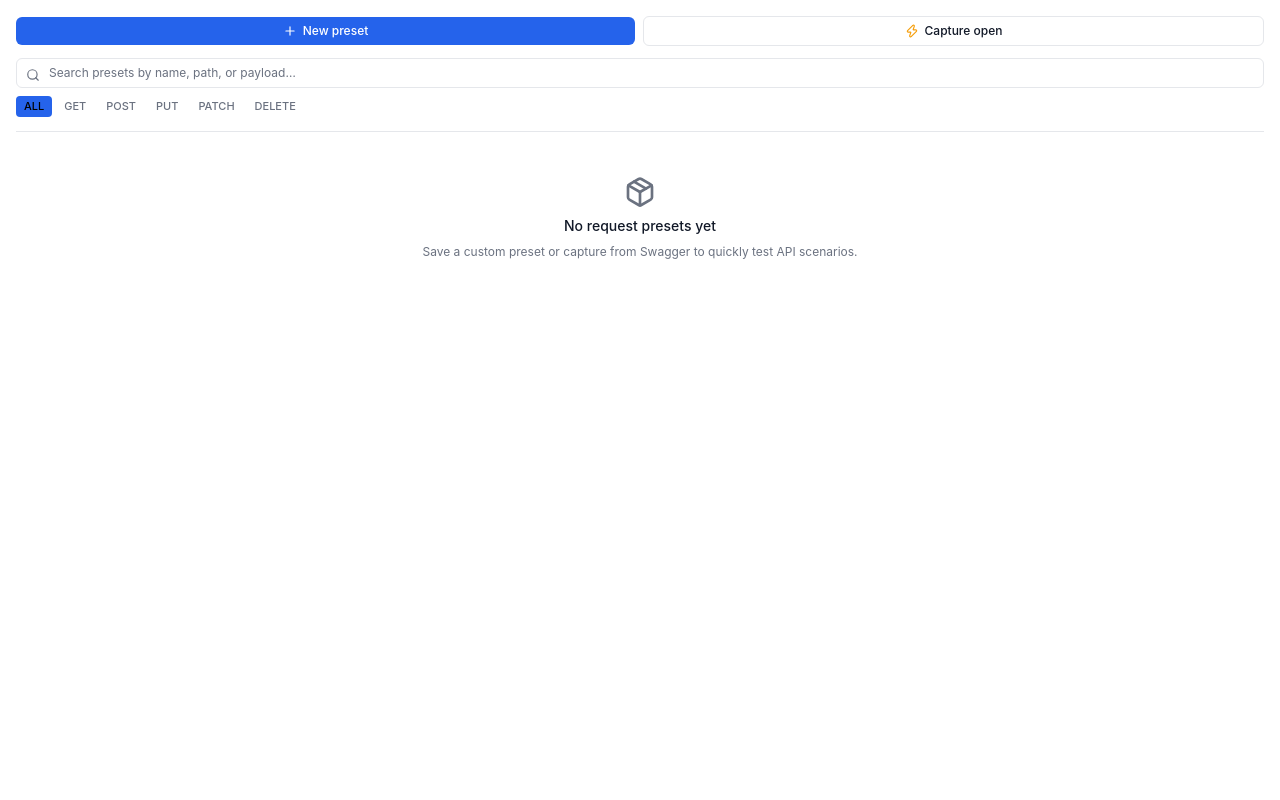
it: RequestsPanel › hides request body input for GET endpoints in create dialog
expect the text "No request presets yet" is shown: met, box [564,216,716,236]
Step 1. Click the button "New preset" → [326, 31], box [16,17,635,45]
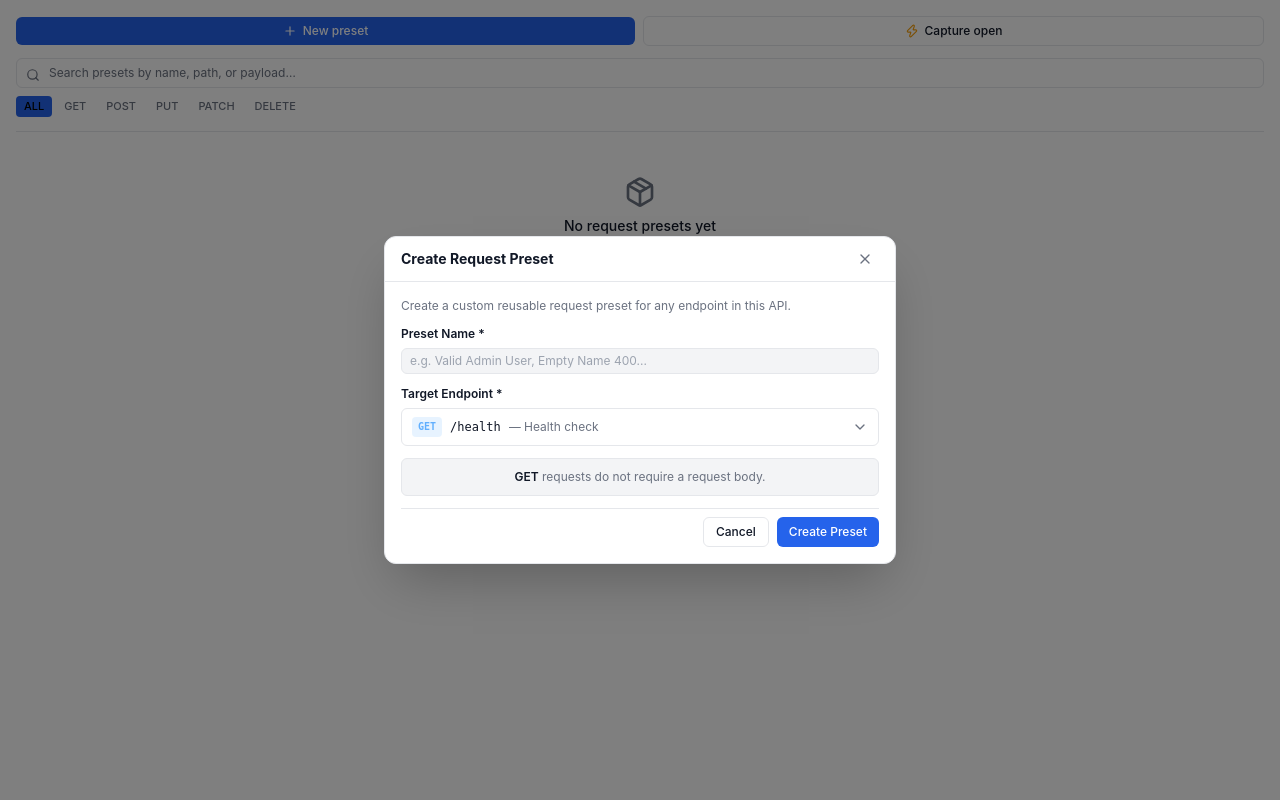
expect the text "Create Request Preset" is shown: met, box [401,249,554,269]
expect the text "get requests do not require a request body." is shown: met, box [401,458,879,496]
